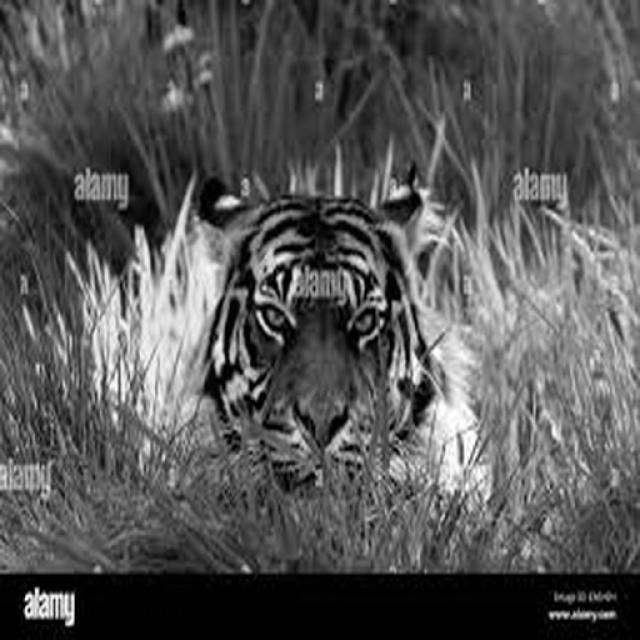Tiger: (163, 160, 492, 524)
